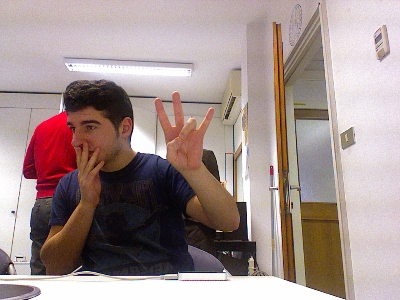观音: (153, 90, 214, 171)
